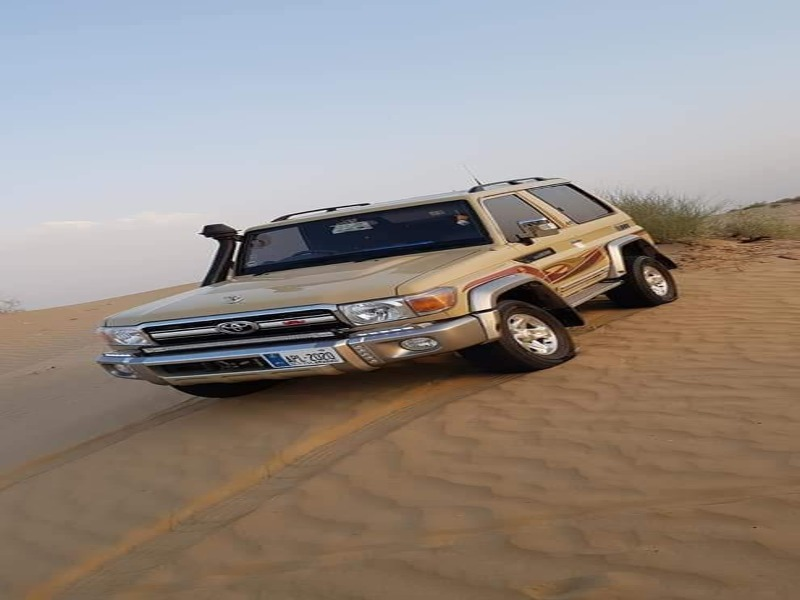License Plate: (262, 345, 346, 371)
